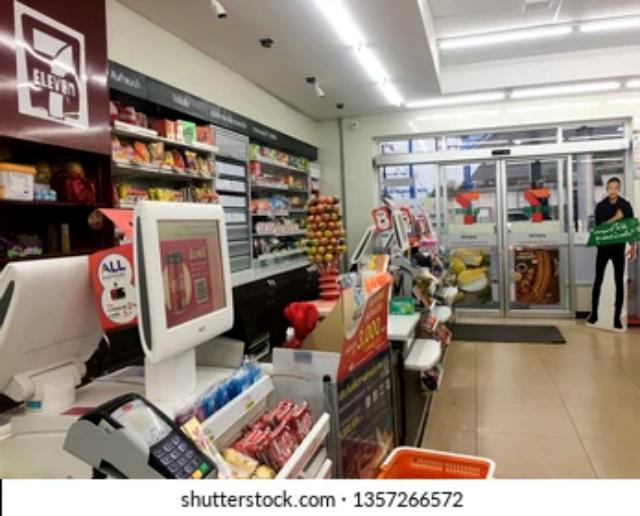background: (1, 0, 640, 478)
